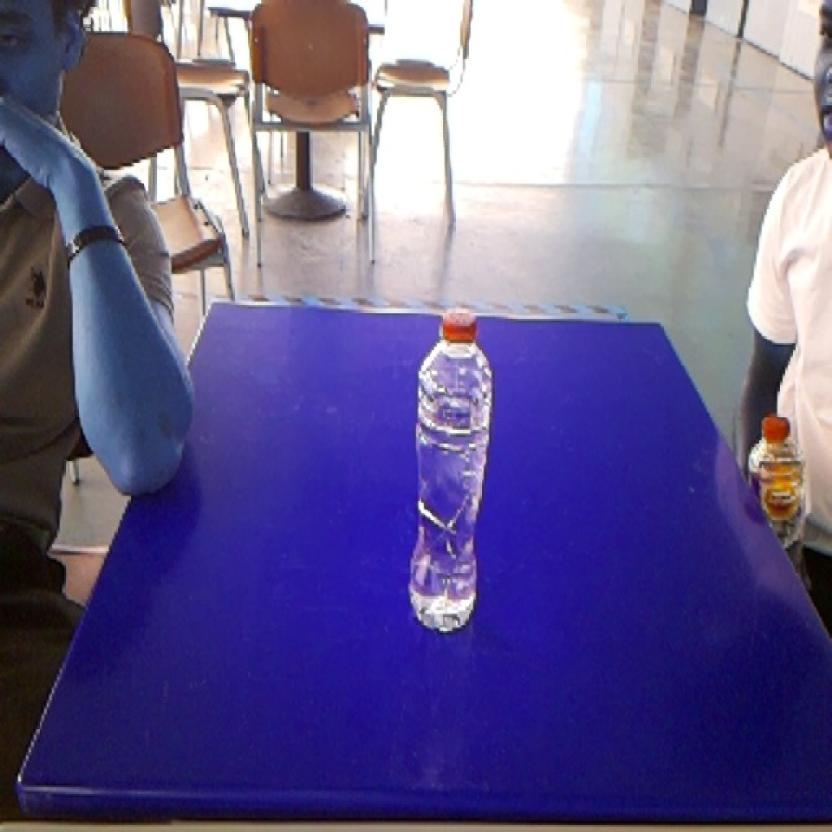no_label: (400, 291, 503, 642)
